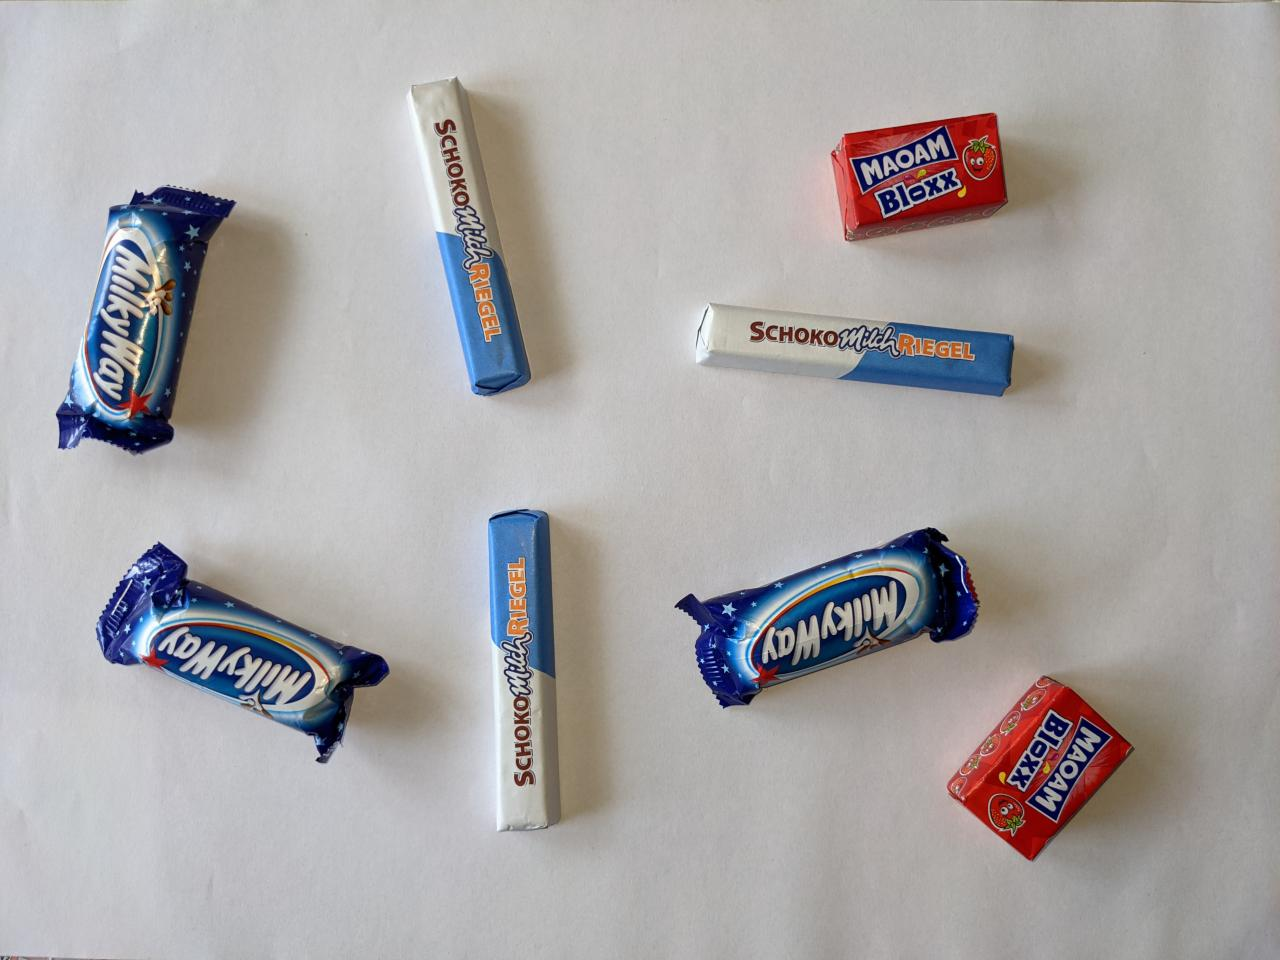MAOAM: (939, 667, 1144, 869), (824, 104, 1015, 249)
MilkyWay: (87, 533, 397, 769), (669, 520, 987, 714), (49, 175, 242, 463)
Schokoriegel: (397, 67, 536, 401), (685, 297, 1024, 405), (476, 502, 571, 841)
